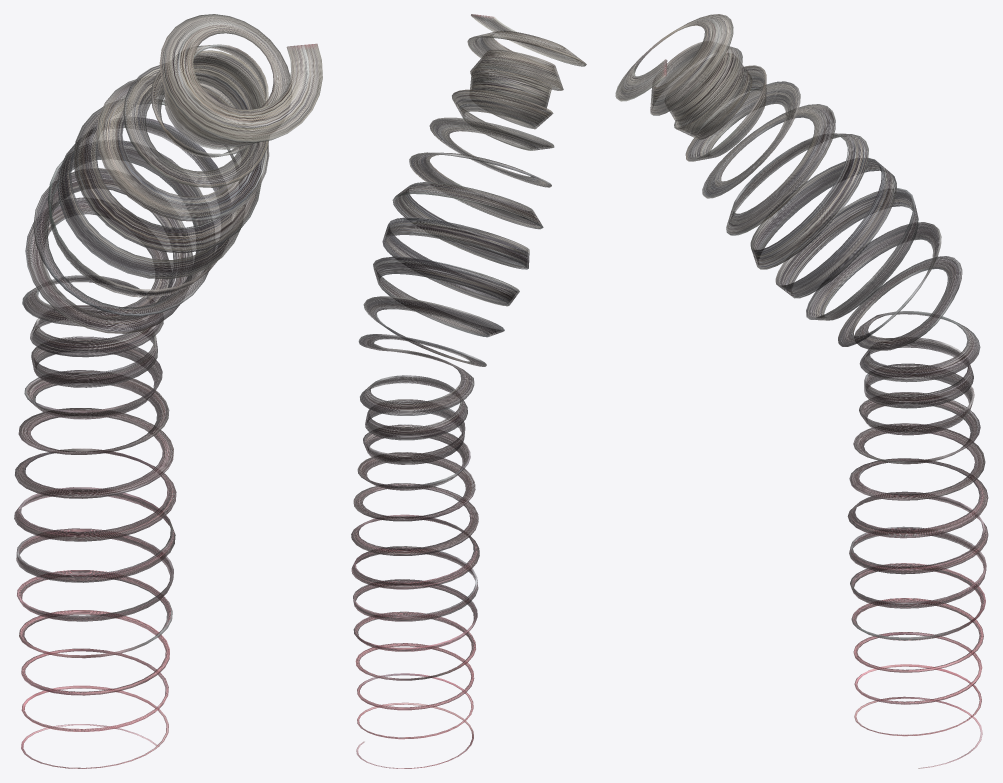
File: spiral.glb
The picture shows the model from 3 angles, left to right: view 1: azimuth 30°, elevation 25°; view 2: azimuth 150°, elevation 25°; view 3: azimuth 270°, elevation 25°; orthographic projection. The views are drawn at different scales.
Visible parts, largest first — view 1: Spiral; view 2: Spiral; view 3: Spiral.
Boxes of the visible parts, x1,y1,x2,y2 form: Spiral: [14, 14, 322, 768]; Spiral: [351, 14, 586, 768]; Spiral: [615, 14, 988, 768].
Bounding box in the file's own units: 0.819 × 3.89 × 1.84.
Materials: 1 (1 with a texture image).
